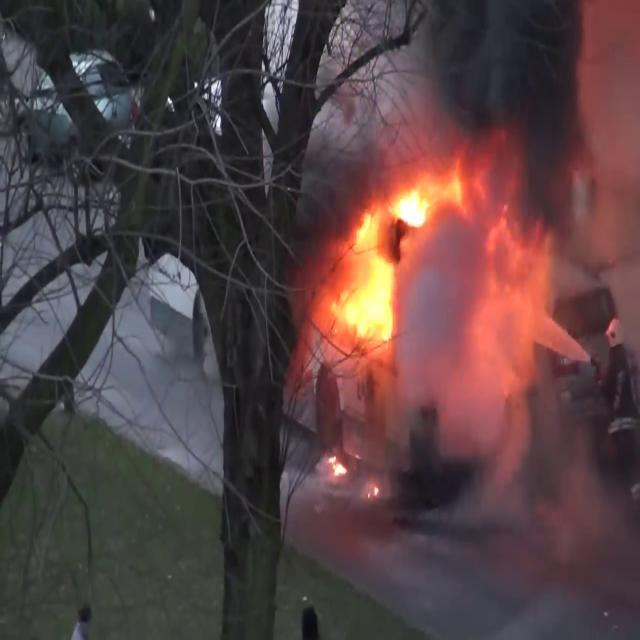Fire: (316, 152, 464, 361)
Smoke: (421, 0, 640, 382)
